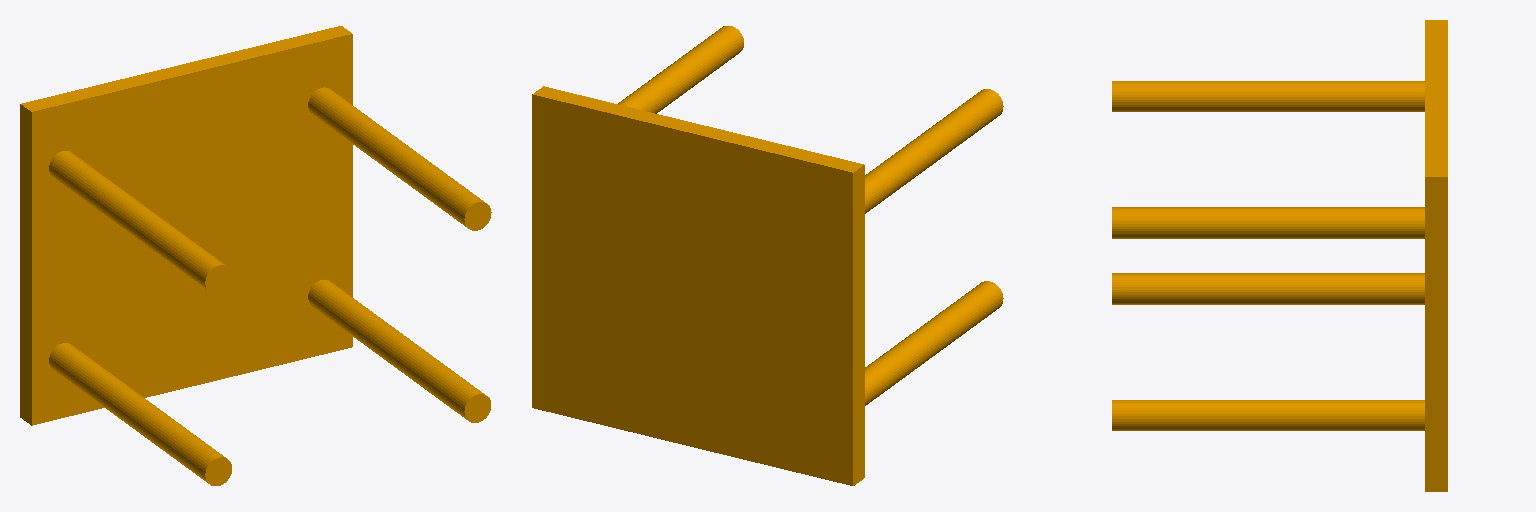
The robot description file, URDF, robot "table_no_wheels":
<?xml version="1.0"?>
<robot name="table_no_wheels">
	<link name="table">
		<visual>
			<origin xyz="0 0.5 0" rpy="0 0 0"/>
			<geometry>
				<mesh filename="package://barrett_model/models/object_meshes/table_no_wheels.dae"/>
			</geometry>
		</visual>
	</link>
</robot>

--- Facts derived from the render (not from the file) ---
The picture shows the robot from 3 angles, left to right: view 1: azimuth 30°, elevation 25°; view 2: azimuth 150°, elevation 25°; view 3: azimuth 270°, elevation 25°; orthographic projection.
Robot: table_no_wheels — 1 links, 0 joints (none); root link table; default pose: all joints at 0.
Visible links, largest first — view 1: table; view 2: table; view 3: table.
Boxes of the visible links, <box> form: table: <box>20,26,491,485</box>; table: <box>532,26,1003,485</box>; table: <box>1112,20,1447,491</box>.
Bounding box of the posed robot: 830 × 750 × 775 m (x, y, z).
Meshes: 1 distinct files referenced, 1 mesh visuals loaded (1 Collada DAE).